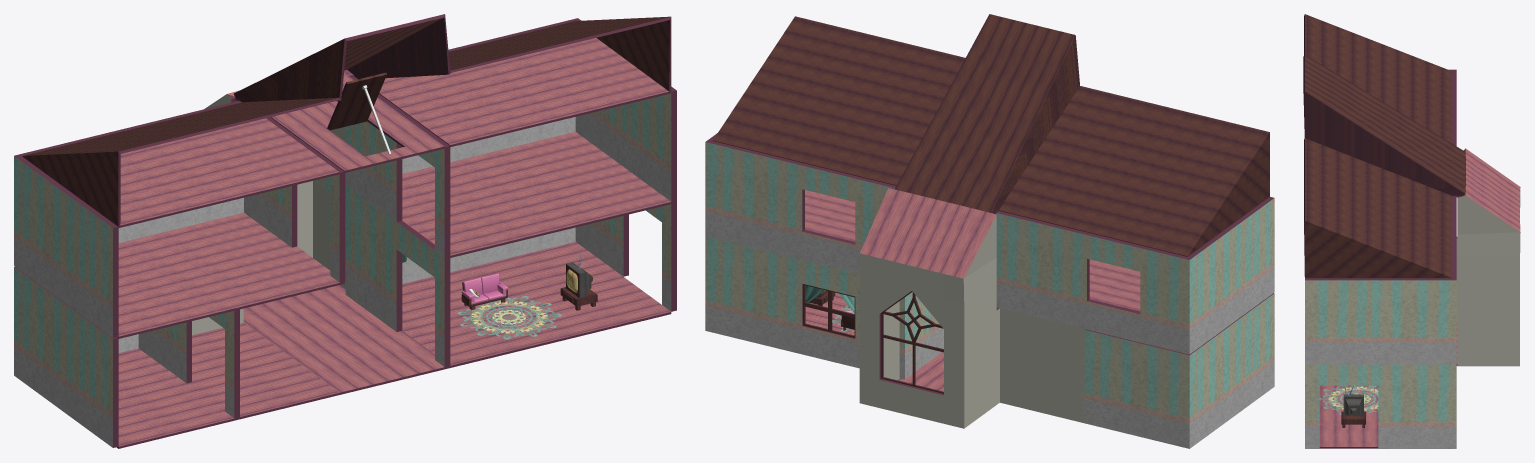
File: romz.fbx
3 views of the same model, side by side, from view 1: azimuth 30°, elevation 25°; view 2: azimuth 150°, elevation 25°; view 3: azimuth 270°, elevation 25° (orthographic). The views are drawn at different scales.
Visible parts, largest first — view 1: roof.005, walls.003, roof, roof.001, roof.002, walls.002, floor, walls, walls.001, floor.002, roof.003, floor.001 (+5 smaller); view 2: roof.005, walls.002, walls.003, walls.004, walls, walls.001, roof.001, roof, window frame.001, floor, floor.001, window frame; view 3: roof.005, walls.001, walls.004, walls, floor, rug, television, walls.003.
Boxes of the visible parts, x1,y1,x2,y2 form: roof.005: (23, 14, 671, 226); walls.003: (14, 101, 345, 337); roof: (402, 132, 671, 257); roof.001: (117, 212, 344, 338); roof.002: (379, 38, 671, 147); walls.002: (14, 266, 243, 447); floor: (402, 242, 671, 367); walls: (345, 185, 676, 366); walls.001: (345, 18, 676, 256); floor.002: (117, 322, 339, 448); roof.003: (22, 118, 339, 228); floor.001: (243, 285, 450, 394); roof.005: (713, 14, 1269, 256); walls.002: (994, 293, 1274, 448); walls.003: (996, 197, 1274, 354); walls.004: (859, 188, 996, 428); walls: (705, 236, 943, 379); walls.001: (705, 133, 895, 273); roof.001: (1089, 259, 1140, 311); roof: (805, 190, 855, 241); window frame.001: (881, 291, 943, 393); floor: (805, 292, 854, 335); floor.001: (898, 352, 943, 391); window frame: (803, 284, 855, 337); roof.005: (1303, 14, 1464, 278); walls.001: (1305, 196, 1456, 364); walls.004: (1457, 148, 1520, 366); walls: (1305, 364, 1456, 448); floor: (1319, 385, 1378, 448); rug: (1319, 385, 1378, 414); television: (1341, 386, 1365, 427); walls.003: (1448, 69, 1456, 146).
Bounding box in the file's own units: 10196 × 6139 × 4436.
Materials: 11 (10 with a texture image).
